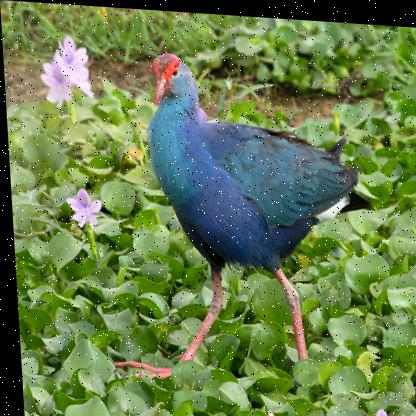Burung: (139, 48, 369, 401)
